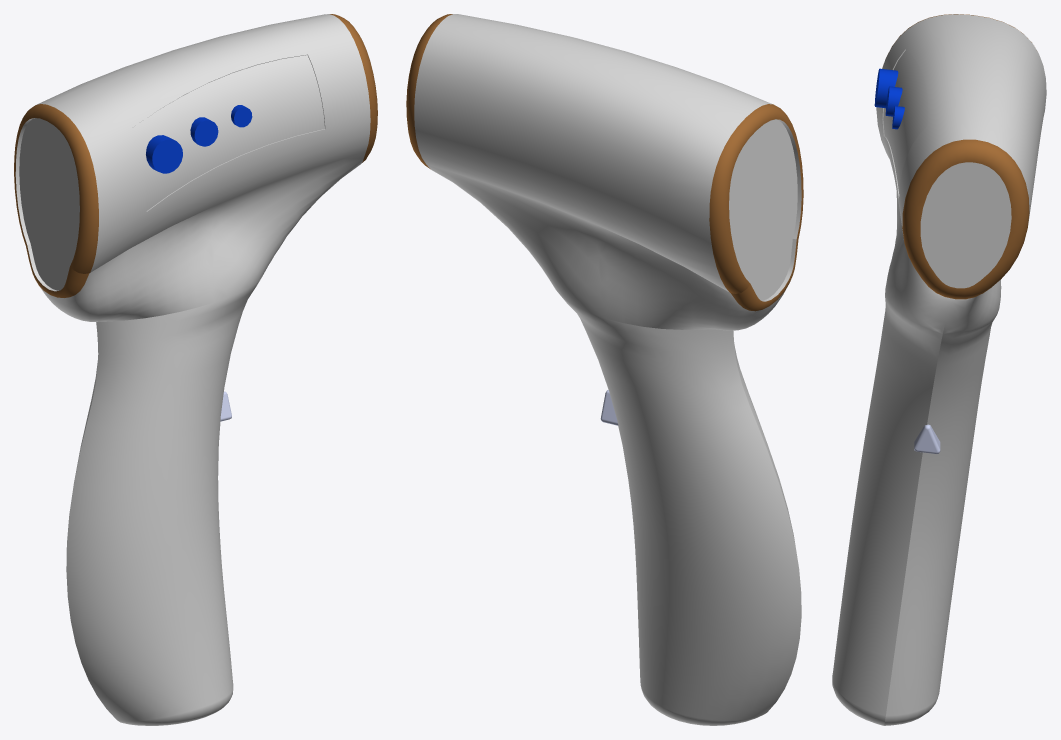
File: 体温枪.obj
The picture shows the model from 3 angles, left to right: view 1: azimuth 30°, elevation 25°; view 2: azimuth 150°, elevation 25°; view 3: azimuth 270°, elevation 25°; orthographic projection. The views are drawn at different scales.
Visible parts, largest first — view 1: BRep_5, BRep_1; view 2: BRep_5; view 3: BRep_5, BRep_1.
Boxes of the visible parts, x1,y1,x2,y2 form: BRep_5: (14, 14, 377, 725); BRep_1: (146, 105, 252, 421); BRep_5: (406, 14, 803, 725); BRep_5: (832, 14, 1046, 725); BRep_1: (874, 68, 940, 454).
Bounding box in the file's own units: 221 × 414 × 119.
